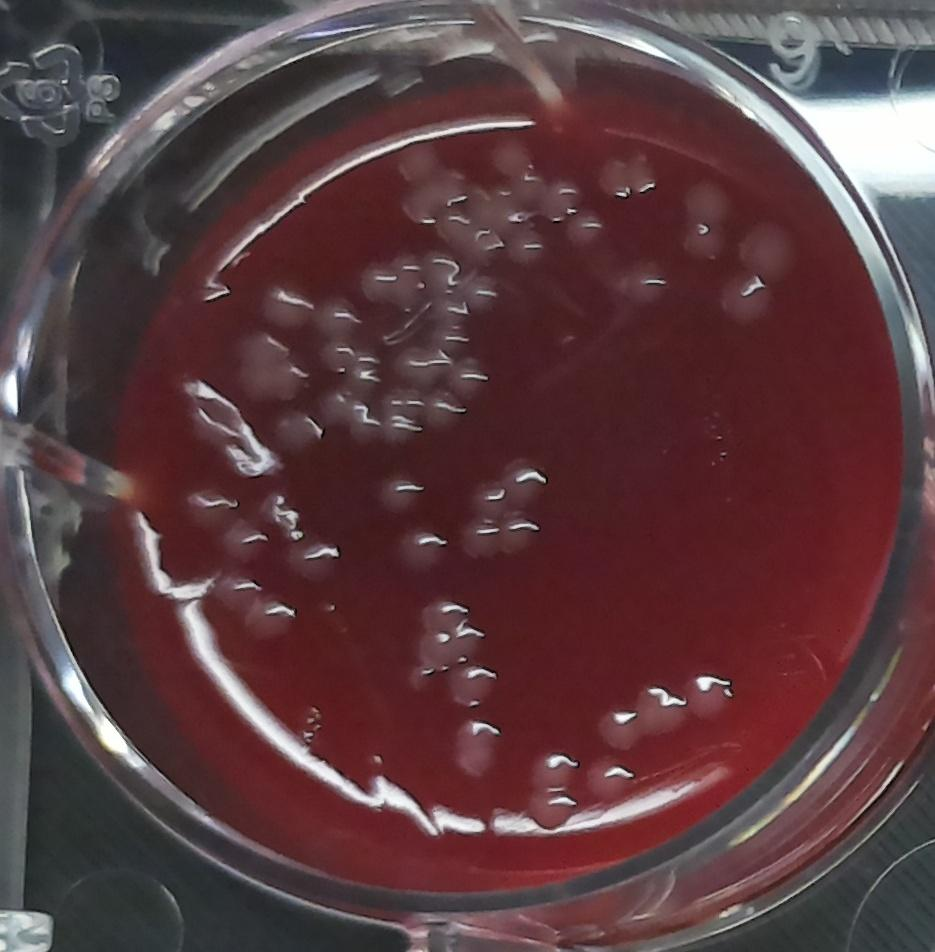vharveyi: (358, 249, 503, 388), (711, 219, 803, 334), (460, 455, 551, 570), (230, 323, 307, 407), (594, 679, 682, 752), (414, 591, 486, 672), (591, 148, 658, 204), (680, 665, 737, 728)
